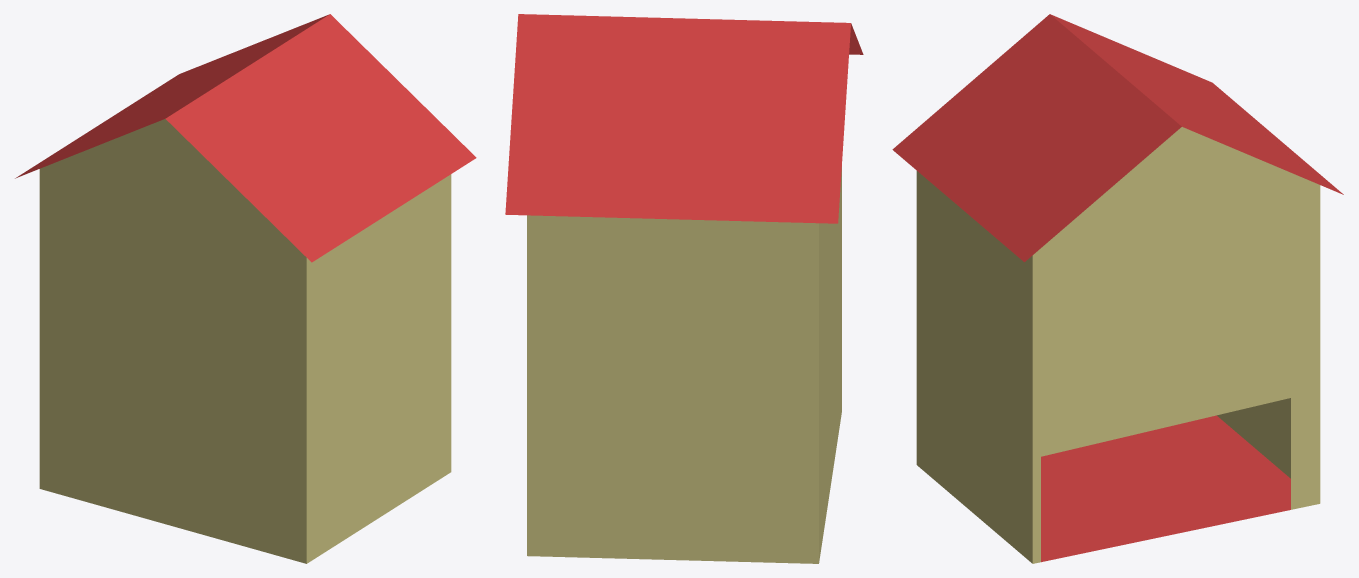
3 renders of one model, left to right at view 1: azimuth 30°, elevation 25°; view 2: azimuth 150°, elevation 25°; view 3: azimuth 270°, elevation 25°, orthographic. The views are drawn at different scales.
Size of the model in its own units: 11.63 by 12.37 by 12.5.
